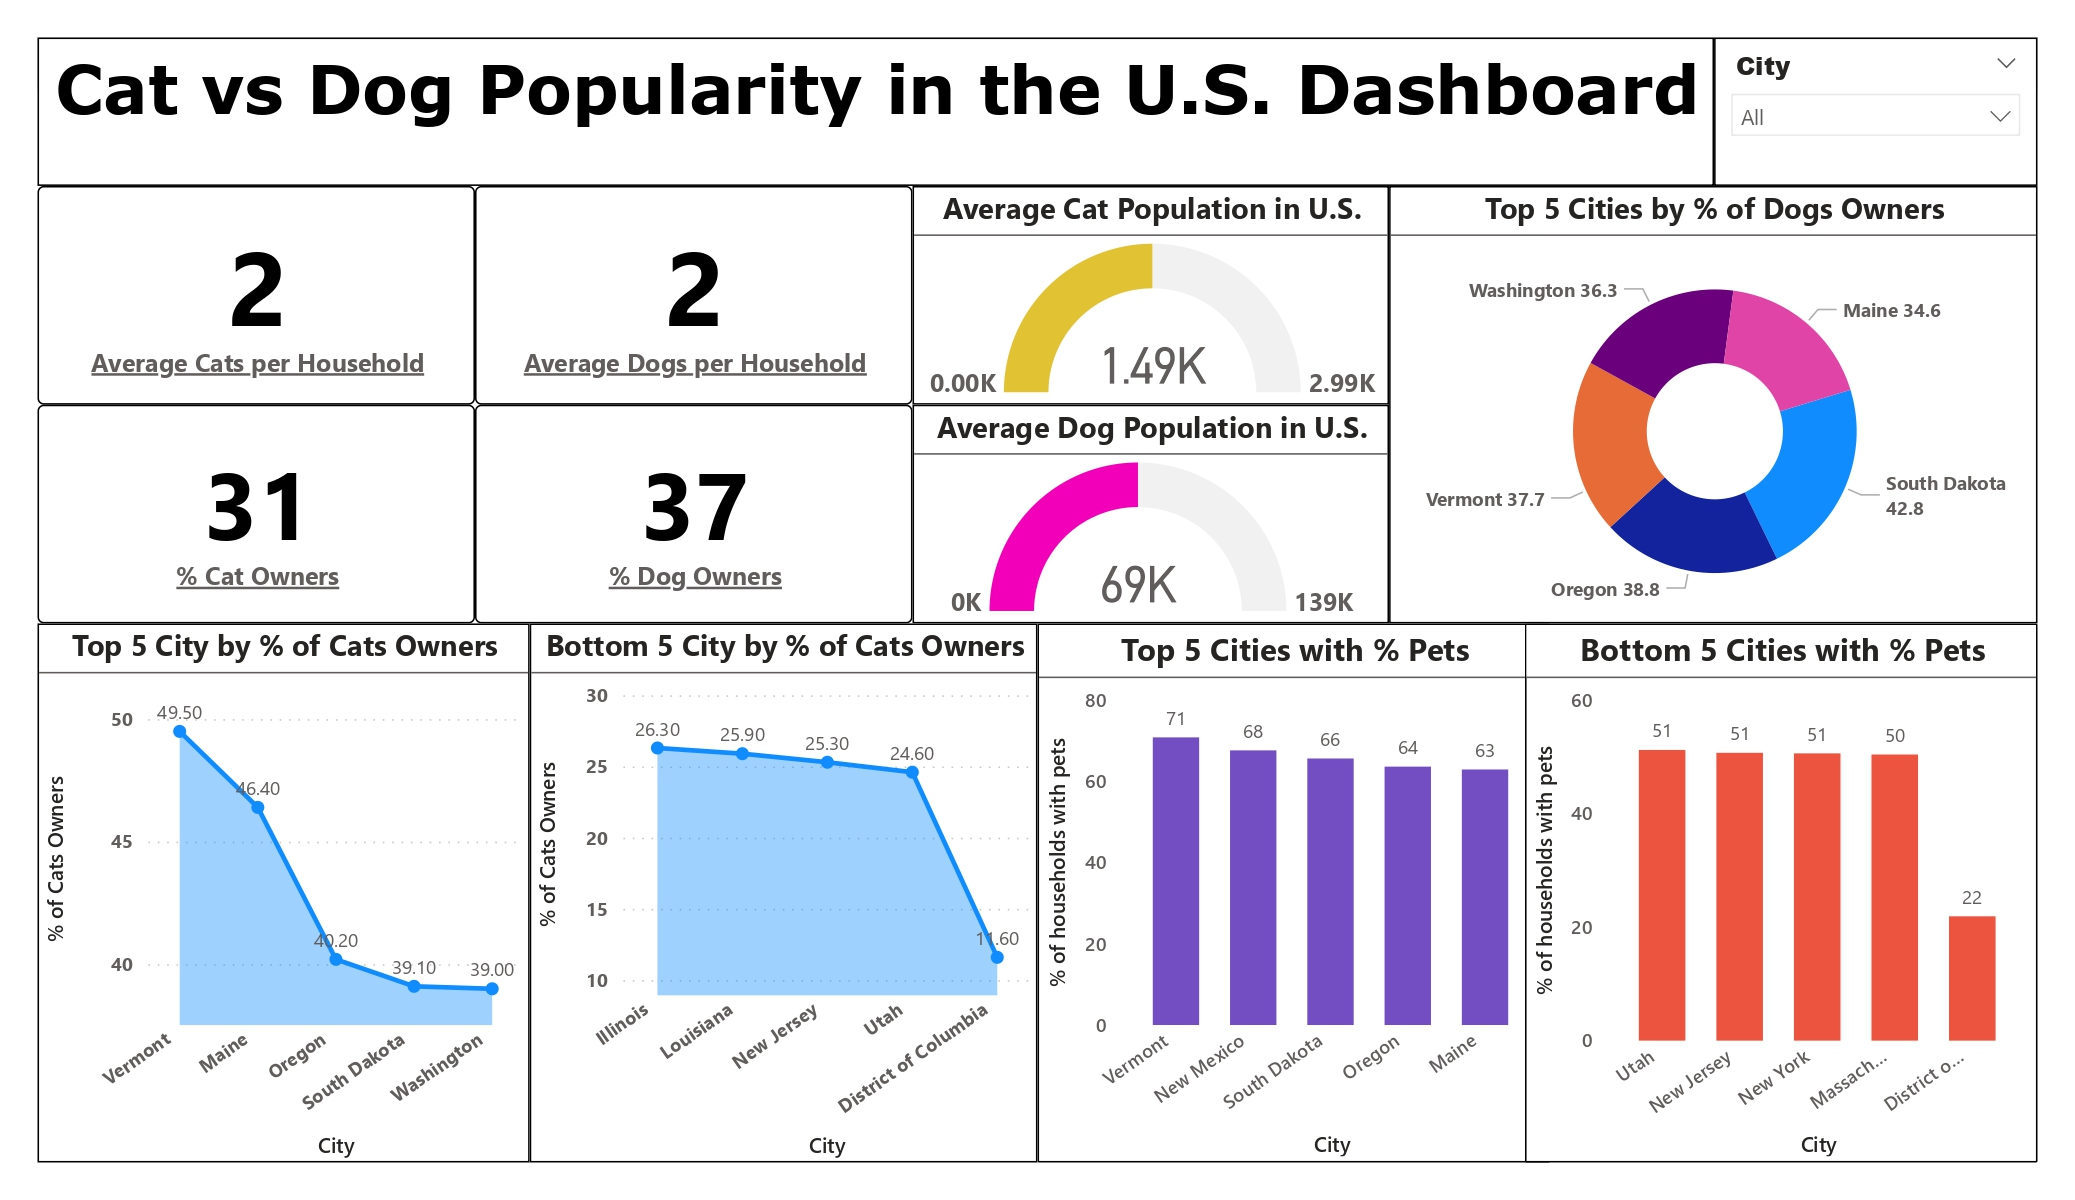

The dashboard page shown, as its layout file describes it:
{"tool":"powerbi","page":{"name":"Page 1","canvas":[1280,720],"ordinal":0},"visuals":[{"type":"card","fields":{"Values":["Median(States.Mean Number of Cats)"]},"box":[0,95,280,140],"z":0},{"type":"card","fields":{"Values":["Median(States.Mean Number of Dogs per household)"]},"box":[280,95,280,140],"z":1000},{"type":"card","fields":{"Values":["Median(States.Percentage of Cat Owners)"]},"box":[0,235,280,140],"z":2000},{"type":"card","fields":{"Values":["Median(States.Percentage of Dog Owners)"]},"box":[280,235,280,140],"z":3000},{"type":"columnChart","title":"Top 5 Cities with % Pets","fields":{"Category":["States.Location"],"Y":["Avg(States.Percentage of households with pets)"]},"box":[640,375,328.3,345],"z":4000},{"type":"columnChart","title":"Bottom 5 Cities with % Pets","fields":{"Category":["States.Location"],"Y":["Avg(States.Percentage of households with pets)"]},"box":[951.7,375,328.3,345],"z":5000},{"type":"stackedAreaChart","title":"Top 5 City by % of Cats Owners","fields":{"Category":["States.Location"],"Y":["Max(States.Percentage of Cat Owners)"]},"box":[0,375,315,345],"z":6000},{"type":"stackedAreaChart","title":"Bottom 5 City by % of Cats Owners","fields":{"Category":["States.Location"],"Y":["Avg(States.Percentage of Cat Owners)"]},"box":[315,375,325,345],"z":7000},{"type":"pieChart","title":"Top 5 Cities by % of Dogs Owners","fields":{"Category":["States.Location"],"Y":["Max(States.Percentage of Dog Owners)"]},"box":[865,95,415,280],"z":8000},{"type":"gauge","title":"Average Cat Population in U.S.","fields":{"Y":["Avg(States.Cat Population)"]},"box":[560,95,305,140],"z":9000},{"type":"gauge","title":"Average Dog Population in U.S.","fields":{"Y":["Sum(States.Dog Population (in 1000))"]},"box":[560,235,305,140],"z":10000},{"type":"textbox","box":[0,0,1073.3,95],"z":11000},{"type":"slicer","fields":{"Values":["States.Location"]},"box":[1073.3,0,206.7,95],"z":12000}]}

Visuals, with their boxes in screenshot pixels (x1, y1, x2, y2):
card - Median(States.Mean Number of Cats): locate(38, 186, 475, 405)
card - Median(States.Mean Number of Dogs per household): locate(475, 186, 912, 405)
card - Median(States.Percentage of Cat Owners): locate(38, 405, 475, 623)
card - Median(States.Percentage of Dog Owners): locate(475, 405, 912, 623)
"Top 5 Cities with % Pets" columnChart: locate(1038, 623, 1550, 1162)
"Bottom 5 Cities with % Pets" columnChart: locate(1525, 623, 2038, 1162)
"Top 5 City by % of Cats Owners" stackedAreaChart: locate(38, 623, 530, 1162)
"Bottom 5 City by % of Cats Owners" stackedAreaChart: locate(530, 623, 1038, 1162)
"Top 5 Cities by % of Dogs Owners" pieChart: locate(1389, 186, 2038, 623)
"Average Cat Population in U.S." gauge: locate(912, 186, 1389, 405)
"Average Dog Population in U.S." gauge: locate(912, 405, 1389, 623)
textbox: locate(38, 38, 1715, 186)
slicer - States.Location: locate(1715, 38, 2038, 186)
